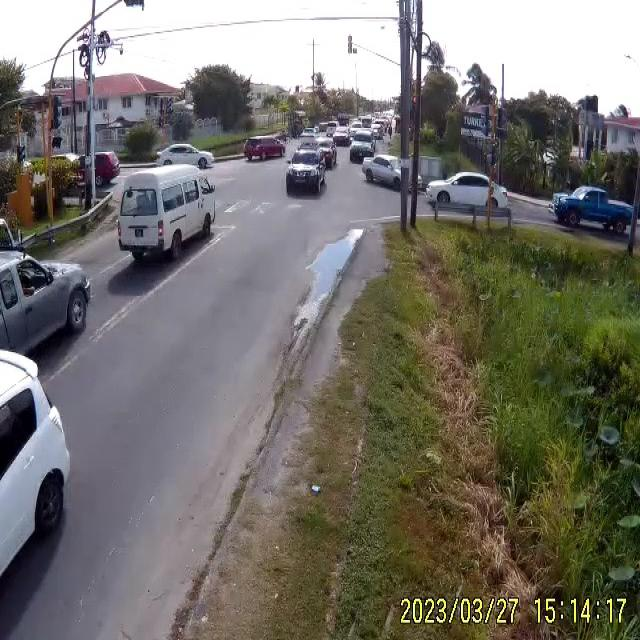car: (1, 243, 93, 354), (116, 168, 215, 262), (554, 189, 635, 234), (426, 174, 509, 213), (286, 150, 326, 196), (156, 145, 216, 168), (362, 156, 401, 188), (243, 136, 285, 162), (352, 136, 376, 166), (334, 130, 351, 147)
